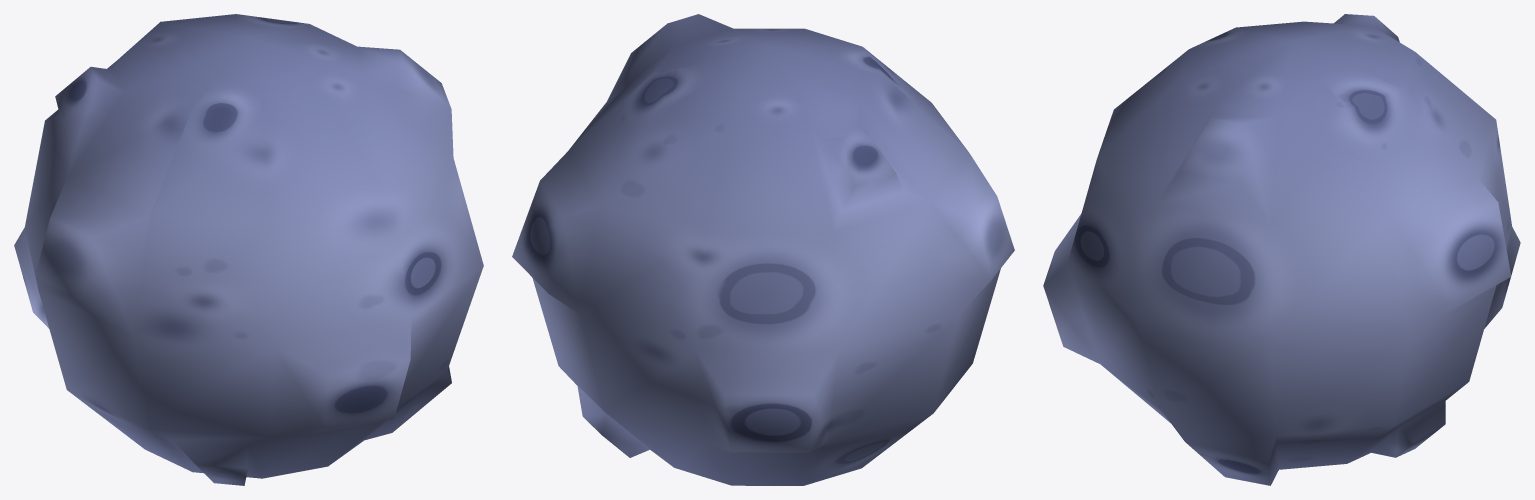
The model's file is Komeetje.fbx.
3 views of the same model, side by side, from view 1: azimuth 30°, elevation 25°; view 2: azimuth 150°, elevation 25°; view 3: azimuth 270°, elevation 25° (orthographic). The views are drawn at different scales.
Visible parts, largest first — view 1: pSphere1; view 2: pSphere1; view 3: pSphere1.
Part boxes in pixels (<box>): pSphere1: <box>14,14,483,485</box>; pSphere1: <box>512,14,1014,485</box>; pSphere1: <box>1043,14,1520,485</box>.
Size of the model in its own units: 390 by 369 by 391.
